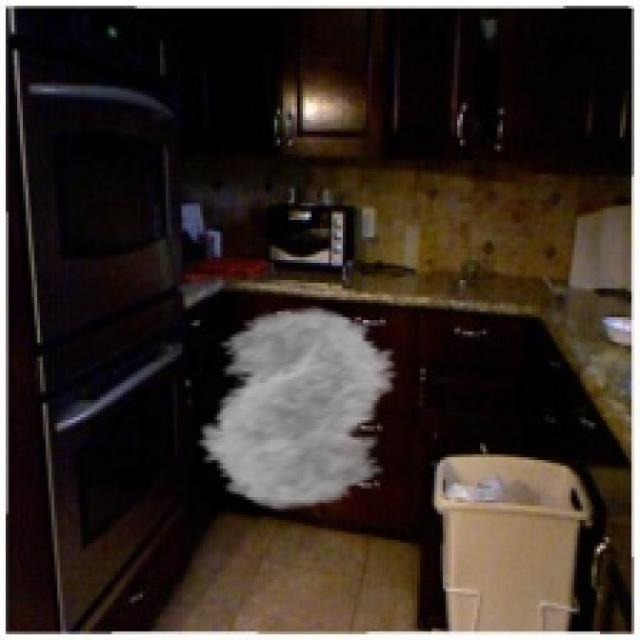Smoke: (180, 306, 423, 512)
